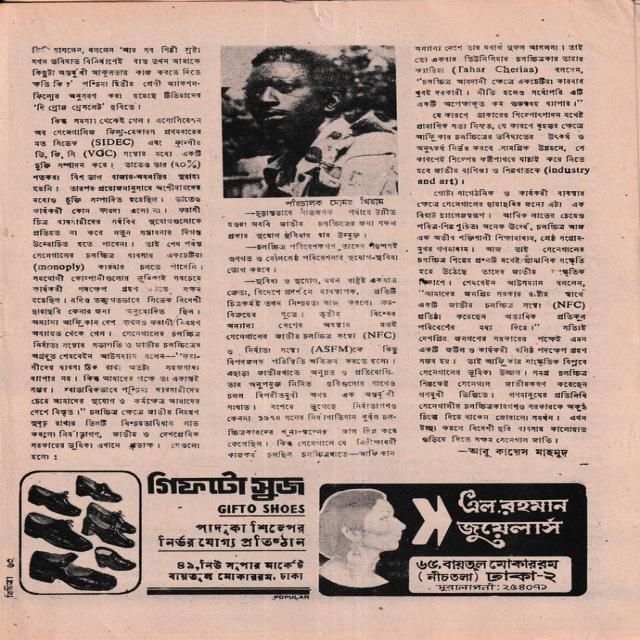advertisement: (17, 469, 310, 596), (316, 481, 589, 599)
image: (219, 44, 401, 199)
page number: (5, 558, 16, 569)
paragraph: (29, 116, 204, 462), (415, 188, 589, 445), (225, 276, 399, 460), (414, 109, 592, 187), (30, 45, 202, 113), (413, 42, 585, 109), (224, 241, 399, 276), (225, 206, 398, 241)
text: (456, 447, 569, 459), (2, 576, 15, 599), (271, 595, 311, 601)
